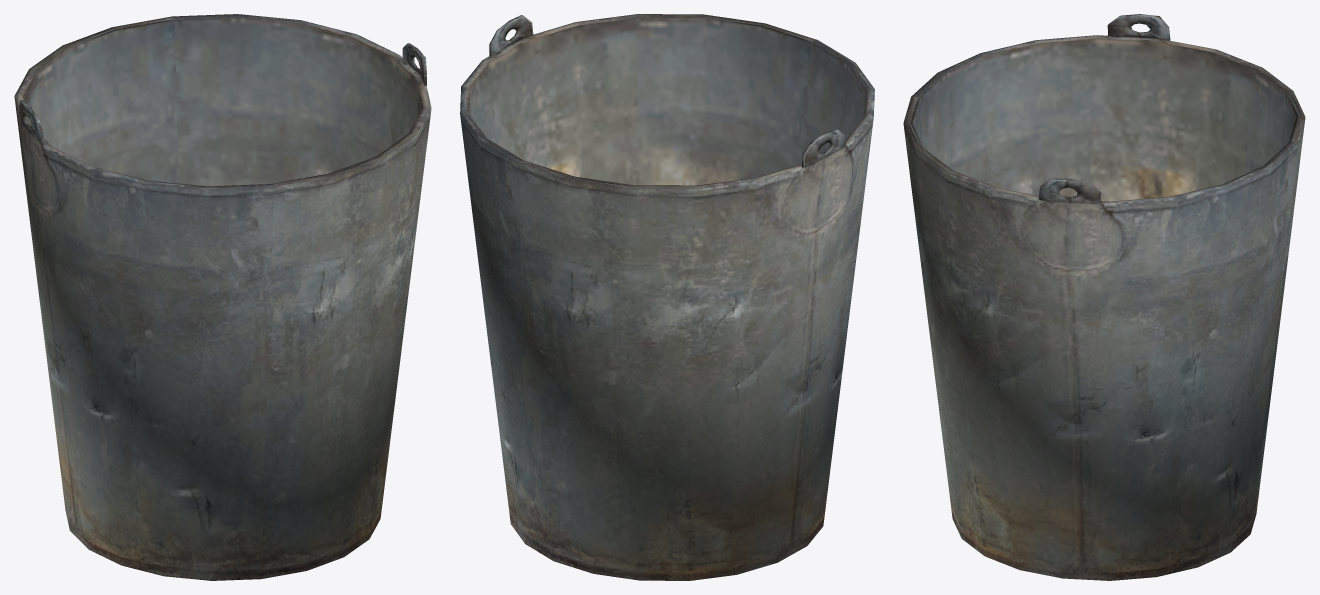
Rendered from Bucket.fbx.
The picture shows the model from 3 angles, left to right: view 1: azimuth 30°, elevation 25°; view 2: azimuth 150°, elevation 25°; view 3: azimuth 270°, elevation 25°; orthographic projection. The views are drawn at different scales.
Parts seen in each view (by area): view 1: mesh_2.129; view 2: mesh_2.129; view 3: mesh_2.129.
Boxes of the visible parts, left/top/right/bottom form: mesh_2.129: left=14, top=14, right=431, bottom=580; mesh_2.129: left=460, top=14, right=874, bottom=580; mesh_2.129: left=903, top=14, right=1305, bottom=580.
Size of the model in its own units: 0.3867 by 0.4456 by 0.3867.
